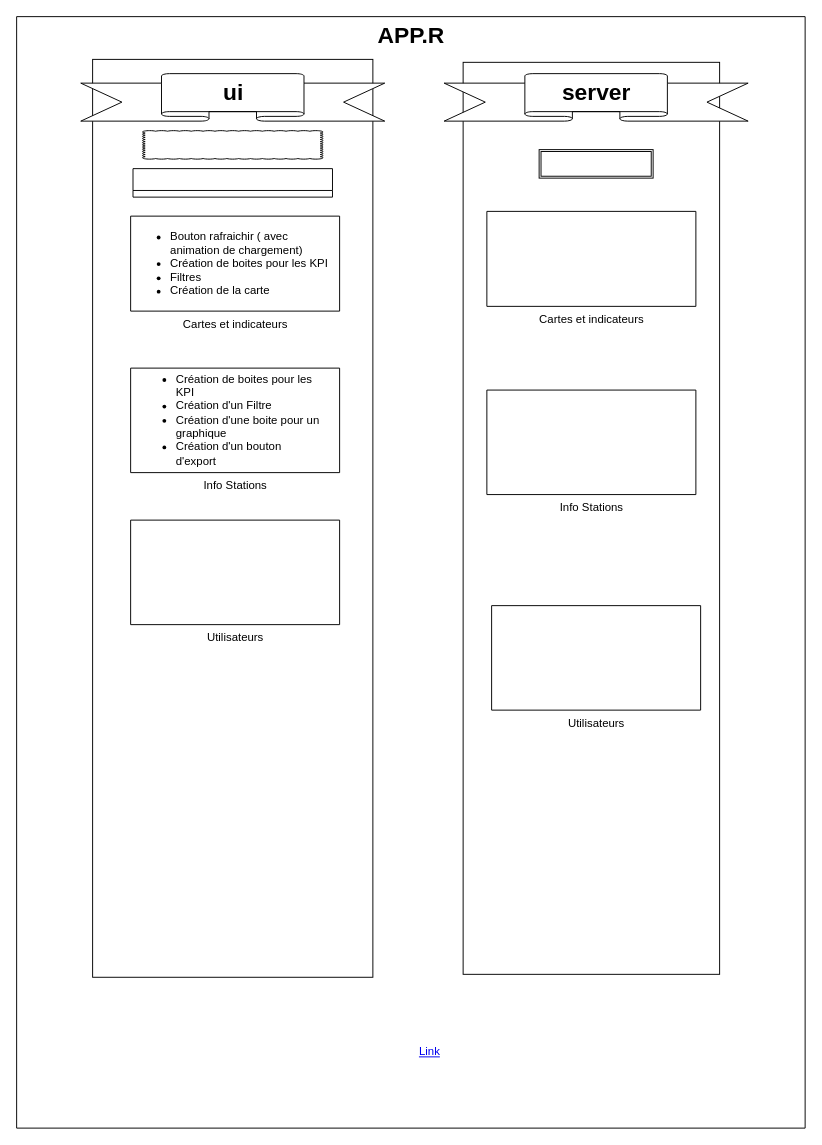
Some shapes in this 822 by 1145 pixel diagram are drawn without their labels. The shapes that lost their labels are listed below. From the top down, each one's centre as x and y in pixels, then its label:
At point 232,144: "Interface utilisateur".
At point 595,163: "Initialisation de l'API".
At point 232,182: "Création de plusieurs onglets".
